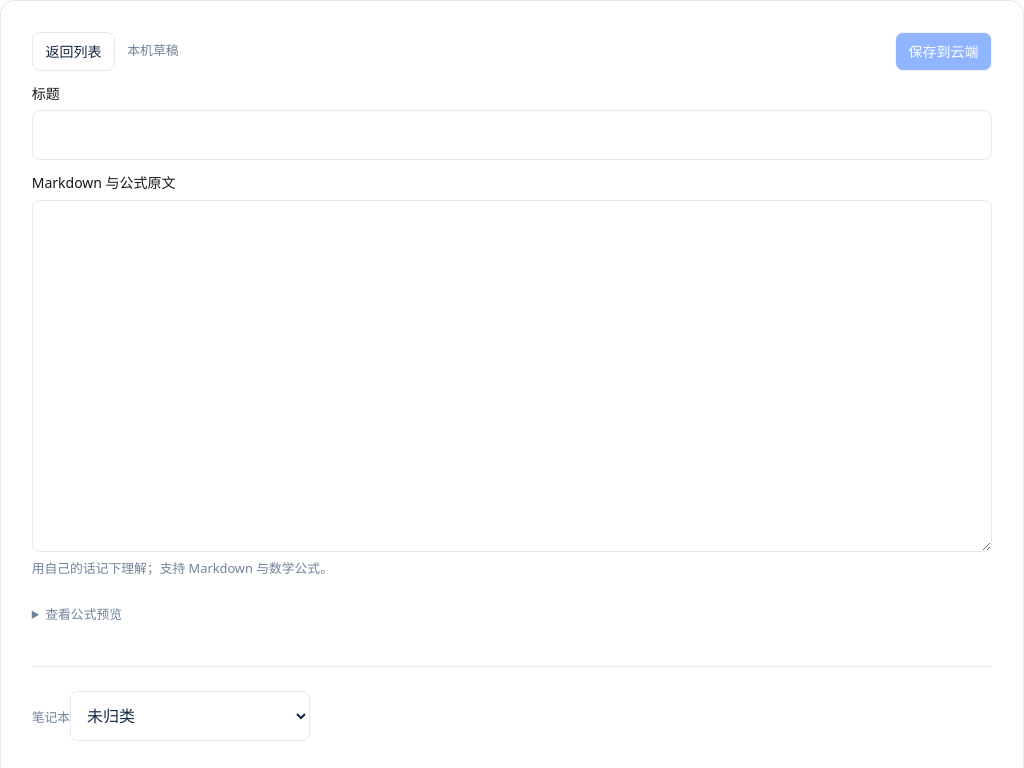
Test case: NoteComposer durable local protection › persists original key before POST and keeps input made while save is in flight
Type "原稿" into the field labelled "标题".
click(512, 135); type("原稿")  # box [32,110,992,160]
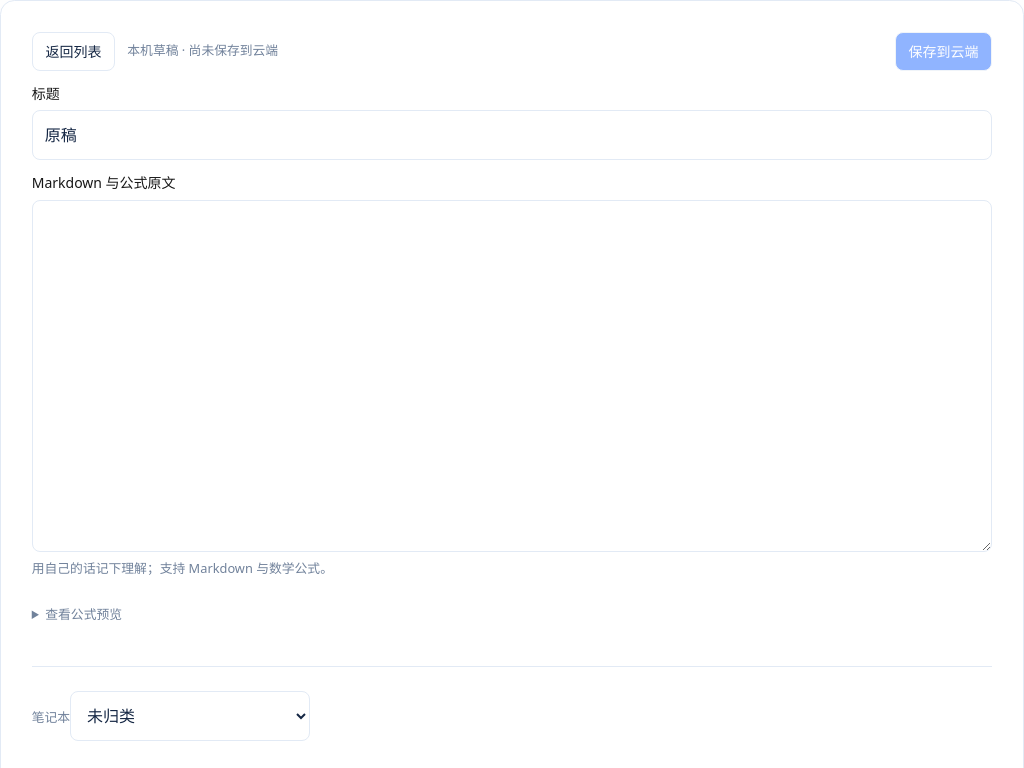
Type "原正文" into the text box labelled "Markdown 与公式原文".
click(512, 376); type("原正文")  # box [32,200,992,552]
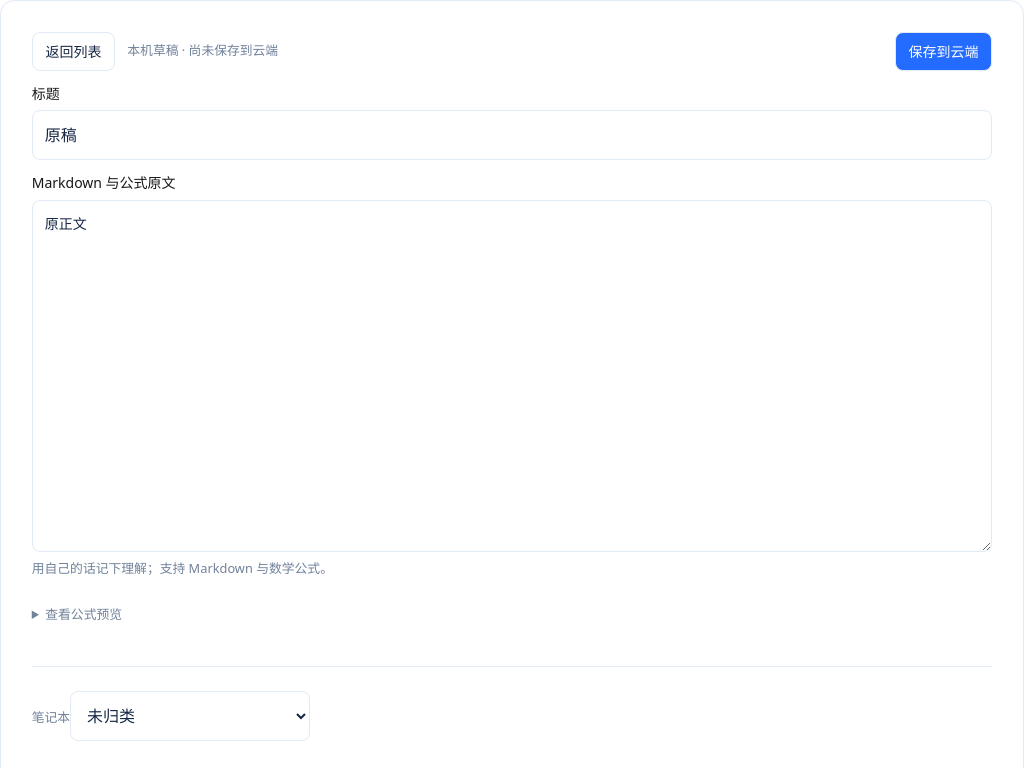
Click the button "保存到云端".
click(944, 51)  # box [895,32,992,71]
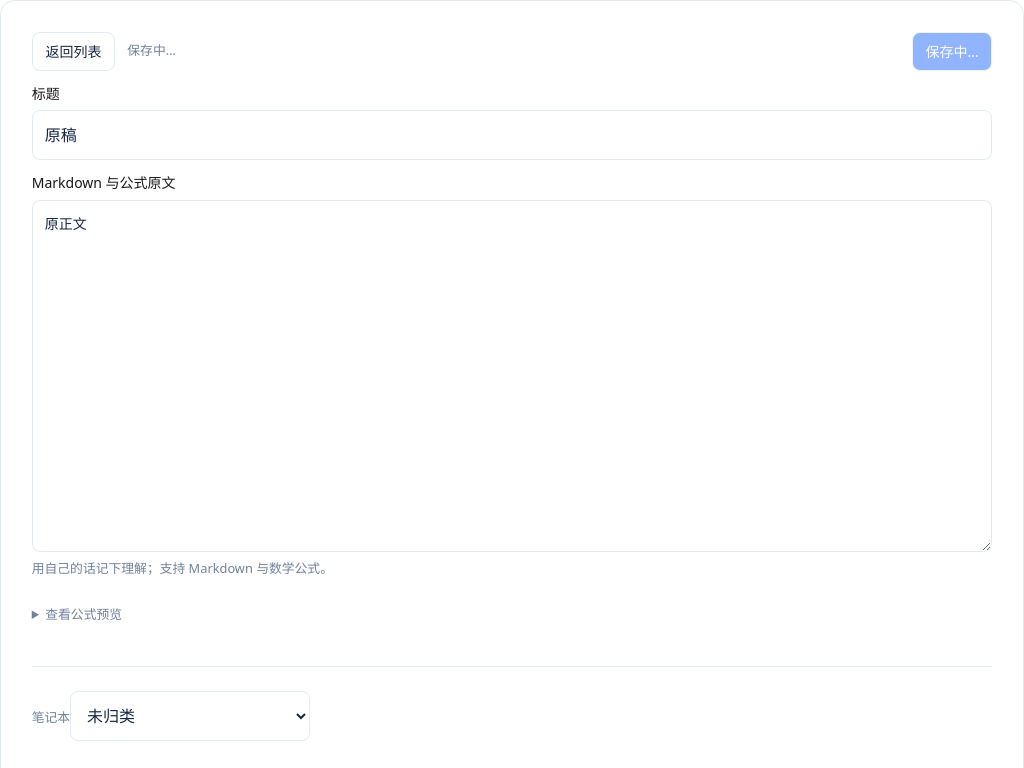
Replace the text in the field labelled "标题" with "后续输入" at (512, 135), box [32,110,992,160]
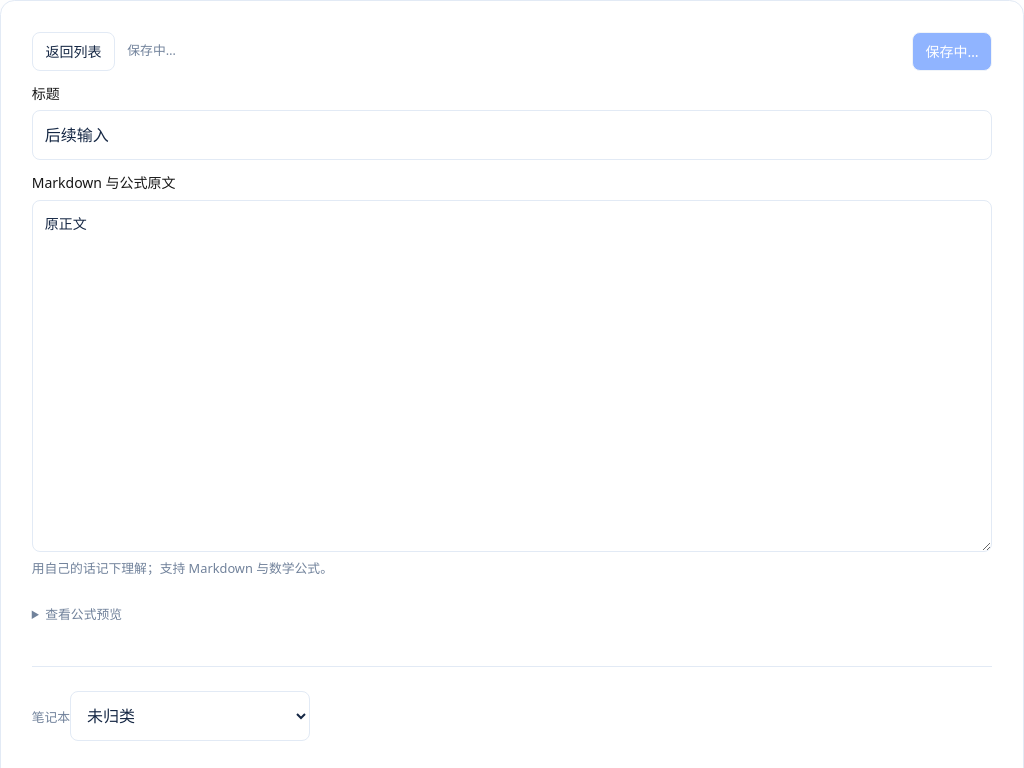
Replace the text in the text box labelled "Markdown 与公式原文" with "请求飞行时的新理解" at (512, 376), box [32,200,992,552]
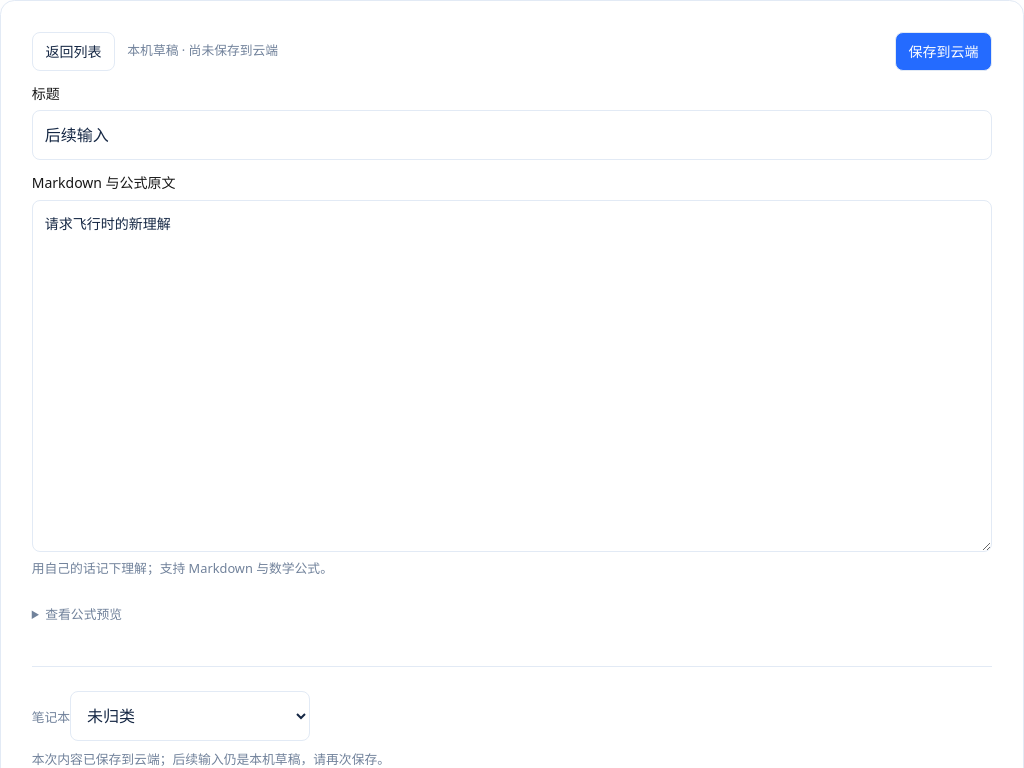
expect the text "本次内容已保存到云端；后续输入仍是本机草稿，请再次保存。" is shown: met, box [32,750,390,767]
